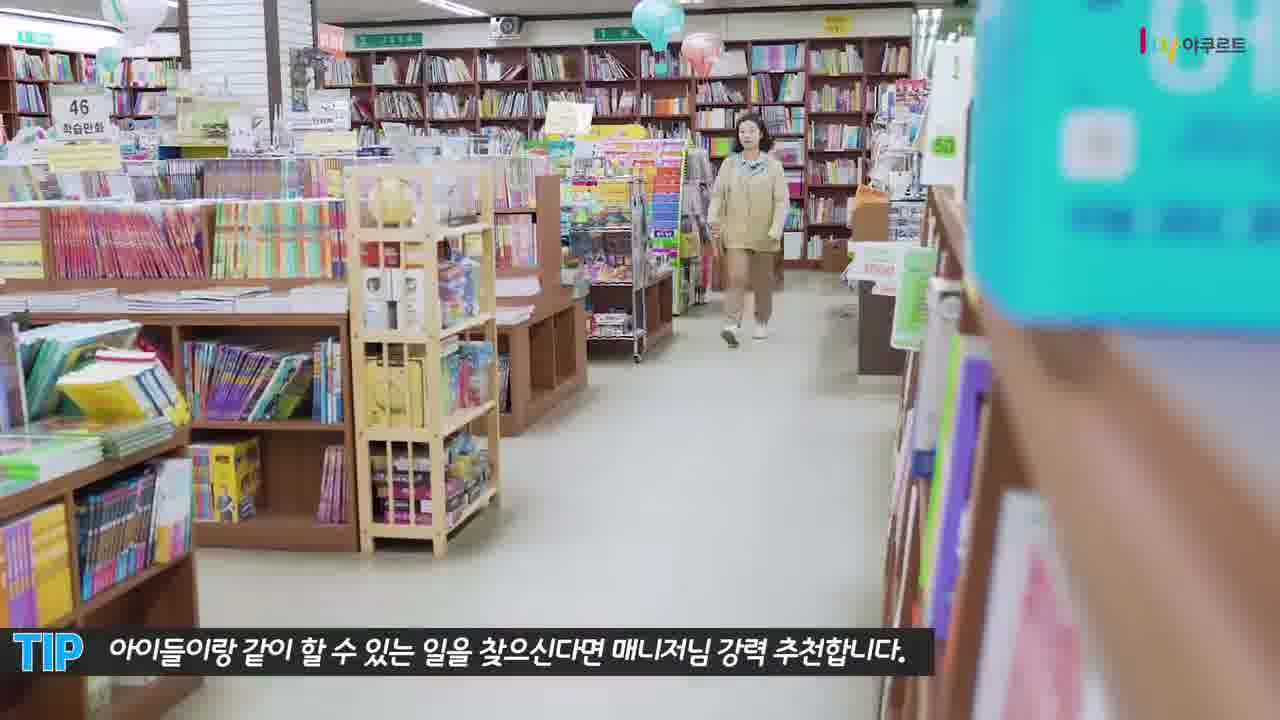Yakurut: (696, 114, 809, 377)
